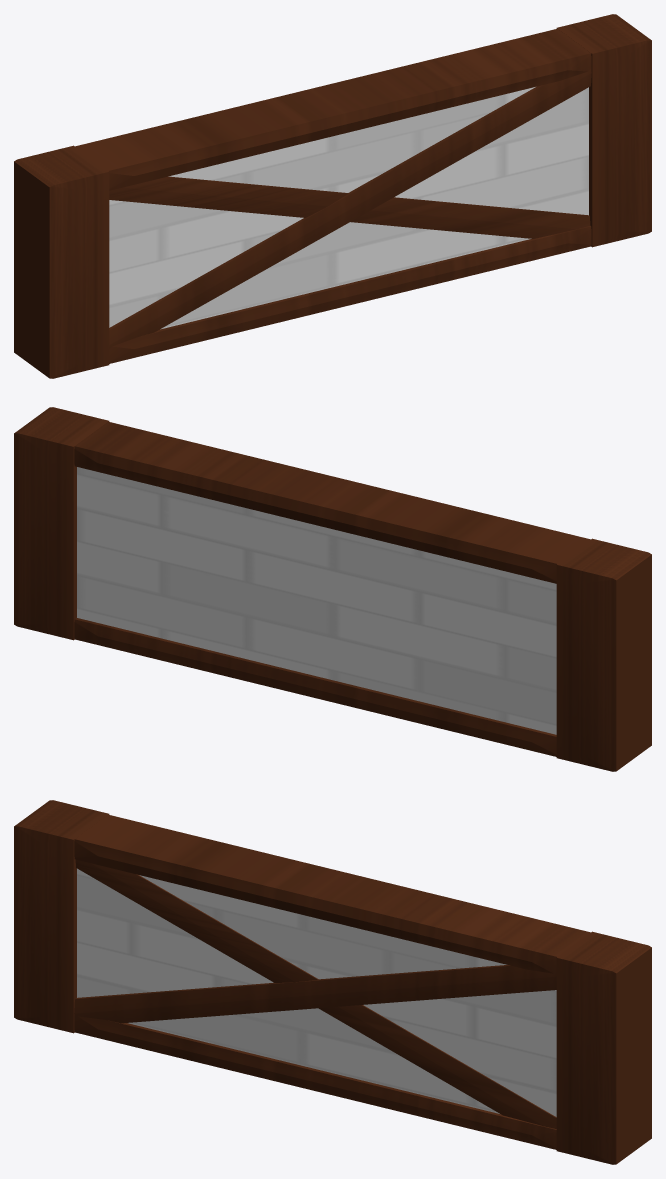
File: Half_Half_Wall_X_Brick.fbx
3 views of the same model, one above another, from view 1: azimuth 30°, elevation 25°; view 2: azimuth 150°, elevation 25°; view 3: azimuth 330°, elevation 25° (orthographic).
Visible parts, largest first — view 1: Half_Half_Wall_X; view 2: Half_Half_Wall_X; view 3: Half_Half_Wall_X.
Boxes of the visible parts, box(x1,y1,x2,y2) form: Half_Half_Wall_X: box(14, 14, 651, 378); Half_Half_Wall_X: box(14, 407, 651, 771); Half_Half_Wall_X: box(14, 800, 651, 1164).
Bounding box in the file's own units: 212 × 64.99 × 23.4.
